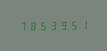eight: (27, 20, 36, 31)
five: (37, 20, 46, 31), (67, 19, 76, 30)
nine: (57, 19, 66, 30)
one: (77, 19, 86, 30)
seven: (17, 20, 26, 31)
three: (47, 20, 56, 30)
